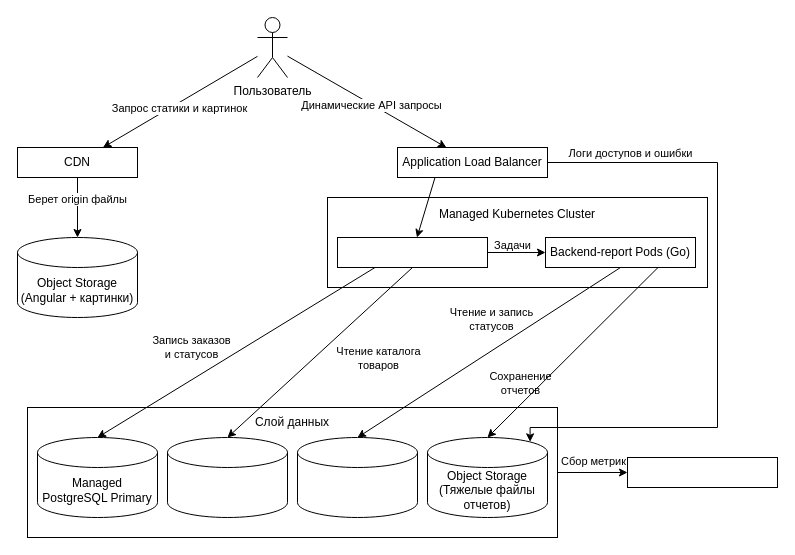
Some shapes in this 795 by 555 pixel diagram are drawn without their labels. Here are the shapes that lost their labels. From the top down, the centre of each, then its label:
At [412,252]: "Backend Pods (Spring Boot)".
At [227,477]: "Managed PostgreSQL Read Replicas".
At [357,477]: "Managed MongoDB (Метаданные отчетов)".
At [702,472]: "Cloud Monitoring и Cloud Logging".
